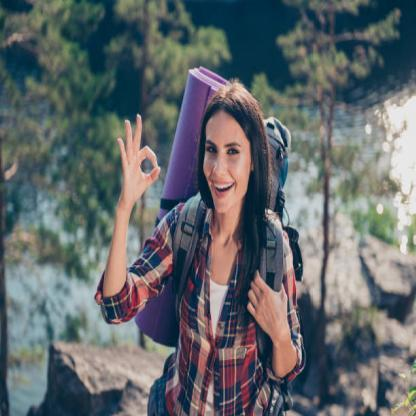ok: (112, 108, 163, 203)
